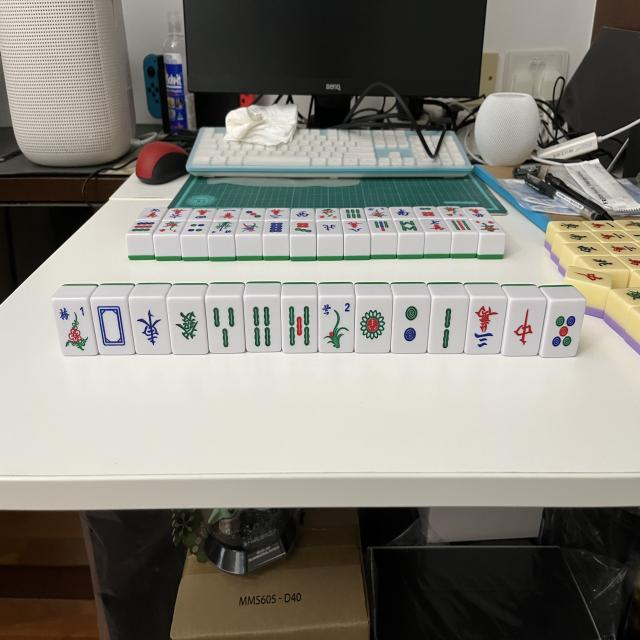bai: (94, 302, 134, 357)
east: (131, 303, 168, 356)
f1: (56, 302, 95, 358)
f2: (320, 300, 356, 354)
f3: (367, 205, 388, 220)
f4: (212, 221, 238, 235)
fa: (170, 304, 206, 355)
ff1: (159, 220, 181, 236)
ff2: (318, 209, 343, 222)
ff3: (442, 204, 467, 219)
ff4: (474, 219, 504, 233)
m1: (219, 208, 239, 222)
m2: (266, 207, 288, 221)
m3: (467, 302, 507, 355)
m4: (194, 208, 214, 222)
m5: (466, 204, 488, 221)
m6: (167, 207, 188, 220)
m7: (427, 220, 446, 232)
m8: (345, 220, 367, 234)
m9: (143, 207, 162, 222)
north: (320, 221, 339, 236)
s1: (239, 220, 259, 235)
s2: (431, 300, 469, 354)
s3: (207, 302, 244, 353)
s4: (248, 302, 282, 351)
s5: (284, 301, 318, 352)
s6: (342, 208, 364, 220)
s7: (368, 218, 398, 234)
s8: (391, 217, 423, 234)
s9: (444, 217, 474, 234)
south: (395, 205, 412, 218)
t1: (354, 301, 391, 353)
t2: (393, 300, 427, 352)
t3: (244, 207, 264, 222)
t4: (186, 222, 206, 235)
t5: (542, 300, 586, 356)
t6: (417, 205, 438, 220)
t7: (292, 221, 315, 235)
t8: (265, 220, 291, 235)
t9: (132, 221, 155, 234)
west: (293, 208, 313, 220)
zhong: (503, 300, 549, 356)
